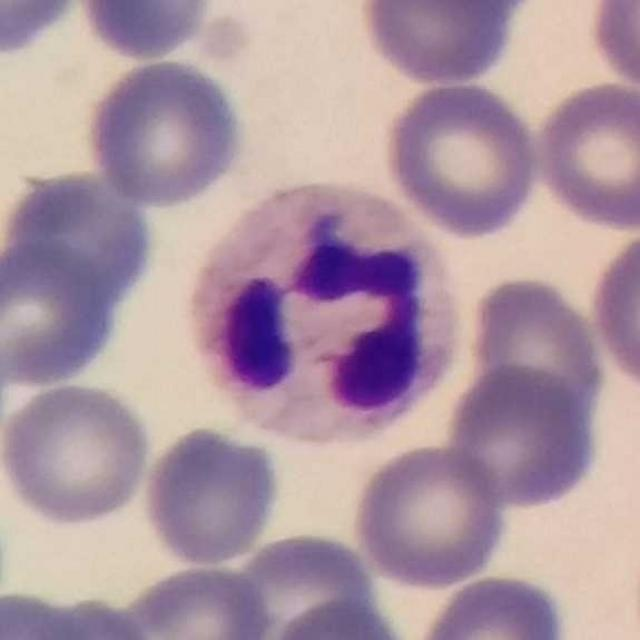Neutrophil: (167, 174, 473, 463)
RBC: (0, 164, 161, 394), (379, 77, 543, 240), (79, 56, 250, 209), (440, 360, 606, 512), (460, 272, 610, 440), (347, 440, 511, 591), (0, 378, 155, 530), (138, 422, 285, 570), (220, 526, 387, 640), (530, 77, 640, 234), (354, 0, 528, 88), (107, 561, 275, 640), (411, 571, 573, 640), (68, 0, 231, 65), (585, 224, 640, 396), (262, 594, 415, 640), (19, 595, 167, 640), (0, 586, 101, 640), (0, 0, 87, 61), (583, 0, 640, 93)
